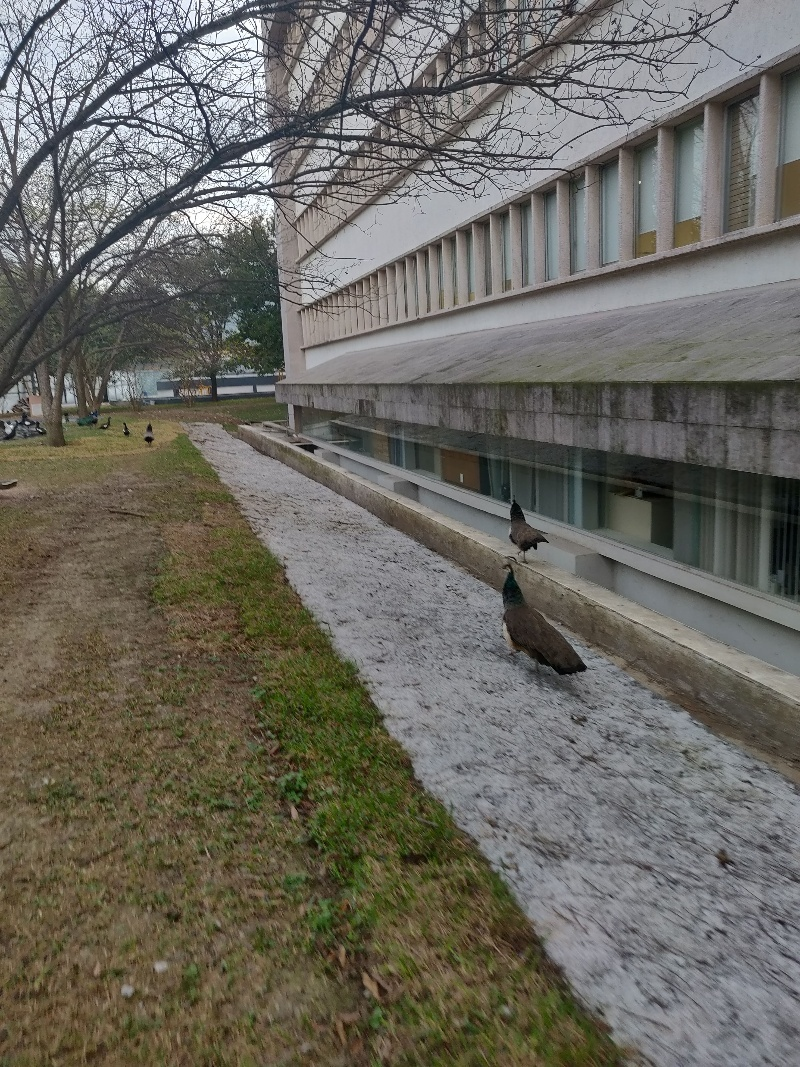pavoreal: (495, 558, 577, 673), (506, 489, 542, 553)
